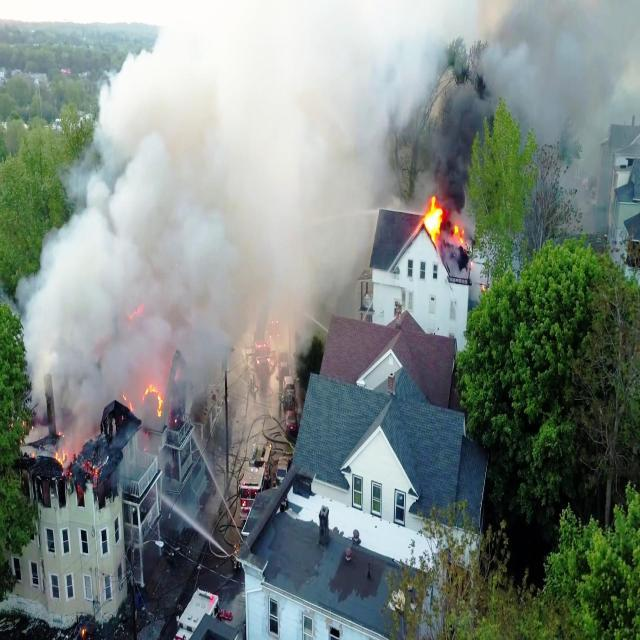Fire: (53, 441, 103, 491), (120, 378, 166, 432), (417, 192, 445, 252), (452, 216, 473, 257)
Smoke: (74, 0, 640, 190), (13, 169, 390, 377), (31, 382, 108, 439)
